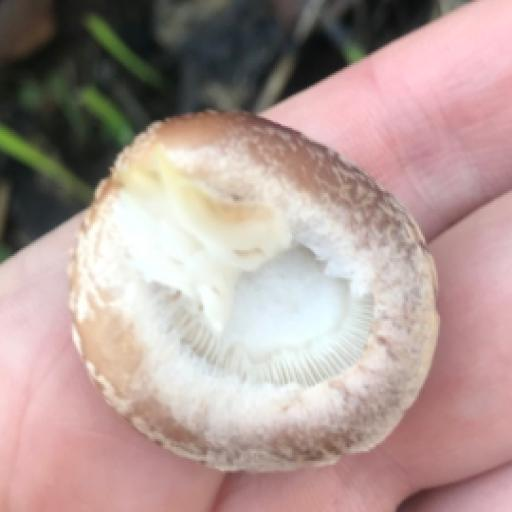Shiitake Mushroom: (70, 113, 446, 488)
